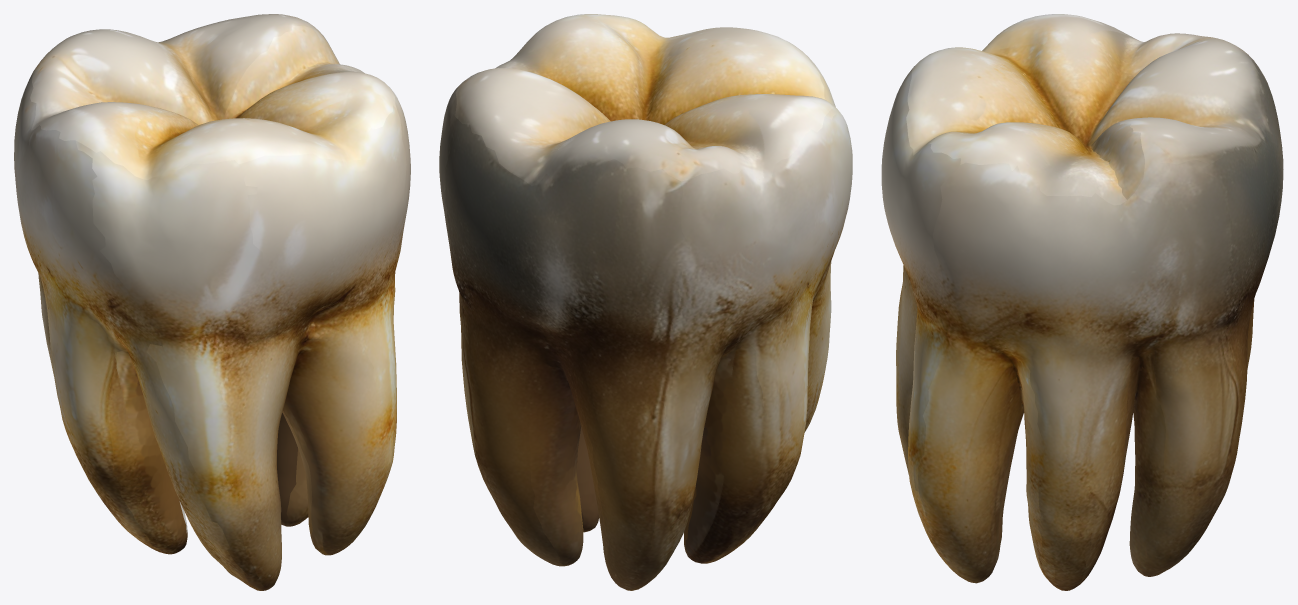
File: molar.glb
3 renders of one model, left to right at view 1: azimuth 30°, elevation 25°; view 2: azimuth 150°, elevation 25°; view 3: azimuth 270°, elevation 25°, orthographic. The views are drawn at different scales.
Visible parts, largest first — view 1: tmpg1jio1ep.ply; view 2: tmpg1jio1ep.ply; view 3: tmpg1jio1ep.ply.
Boxes of the visible parts, left/top/right/bottom form: tmpg1jio1ep.ply: left=14, top=14, right=410, bottom=590; tmpg1jio1ep.ply: left=439, top=14, right=852, bottom=590; tmpg1jio1ep.ply: left=881, top=14, right=1283, bottom=590.
Size of the model in its own units: 1.5 by 1.96 by 1.49.
1 material, 1 textured.
